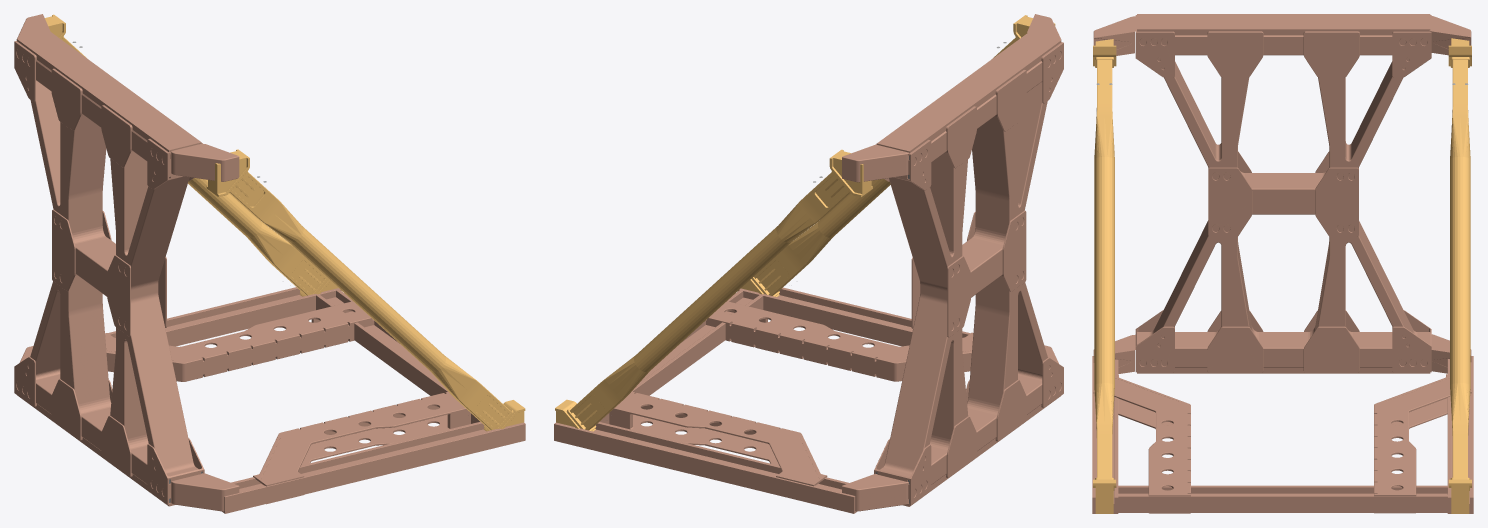
Rendered from SlopeBlock.glb.
3 views of the same model, side by side, from view 1: azimuth 30°, elevation 25°; view 2: azimuth 150°, elevation 25°; view 3: azimuth 270°, elevation 25° (orthographic). The views are drawn at different scales.
Parts seen in each view (by area): view 1: Component#120.008; view 2: Component#120.008; view 3: Component#120.008.
Part boxes in pixels (bbox=[...]): Component#120.008: bbox=[14, 14, 525, 513]; Component#120.008: bbox=[554, 14, 1063, 513]; Component#120.008: bbox=[1092, 14, 1473, 513].
Size of the model in its own units: 6.22 by 6.3 by 6.33.
